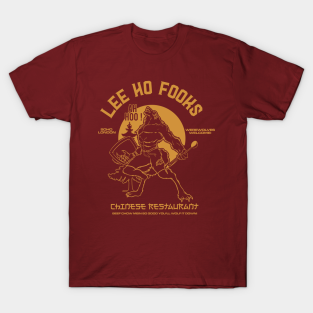design: (95, 78, 217, 217)
